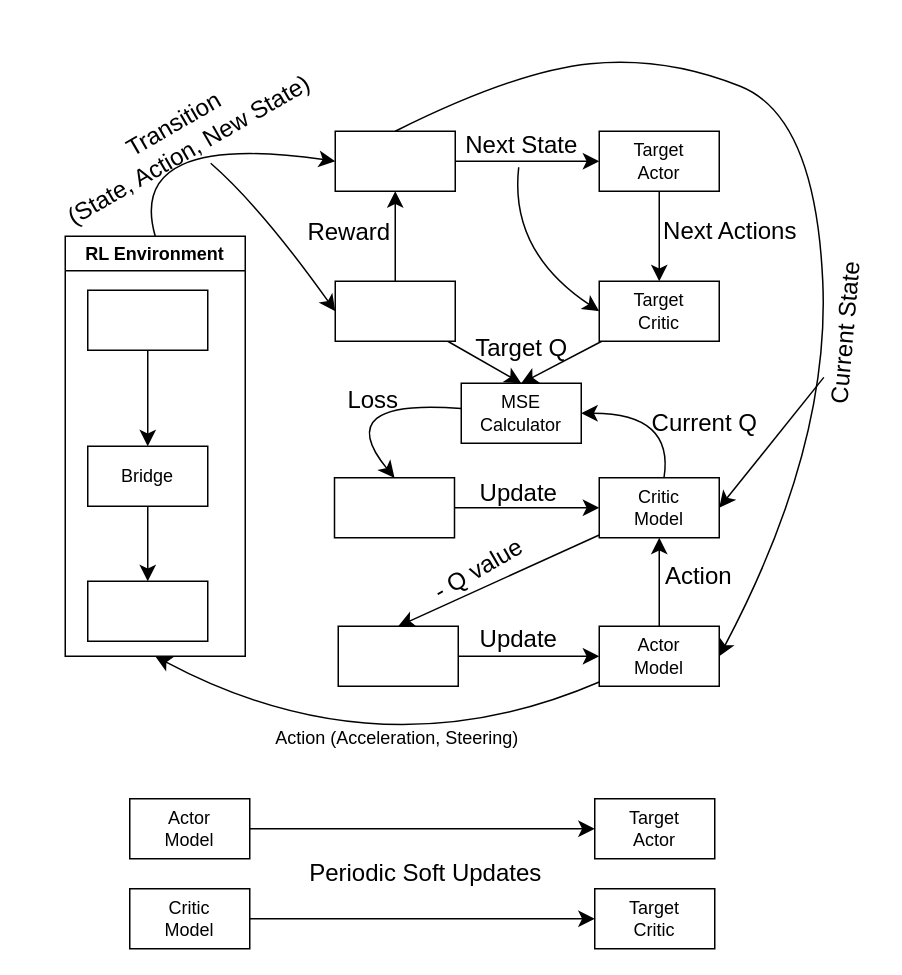
This 902x975 diagram has some shape labels left out. The centre of each missing label's shape, as x and y in pixels:
Actor Optimizer: (397,655)
Critic Optimizer: (393,507)
Episode Handler: (147,610)
Experience Memory: (394,160)
Reward Calculator: (394,310)
Simulator: (147,319)
